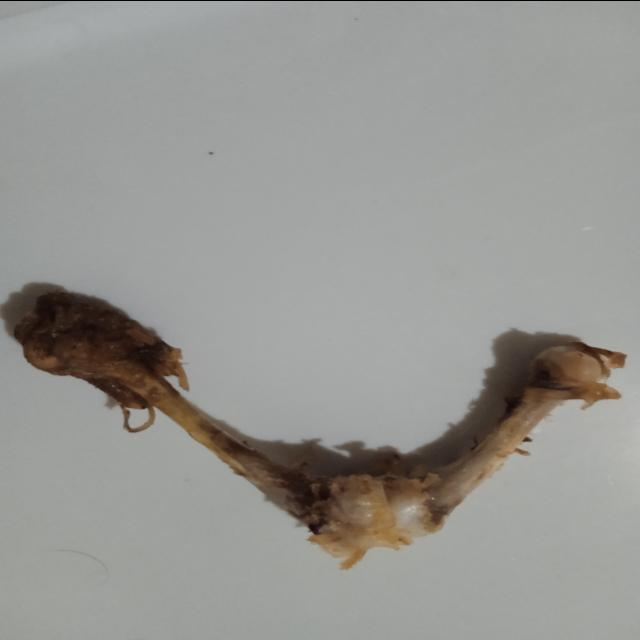bone: (0, 276, 640, 592)
